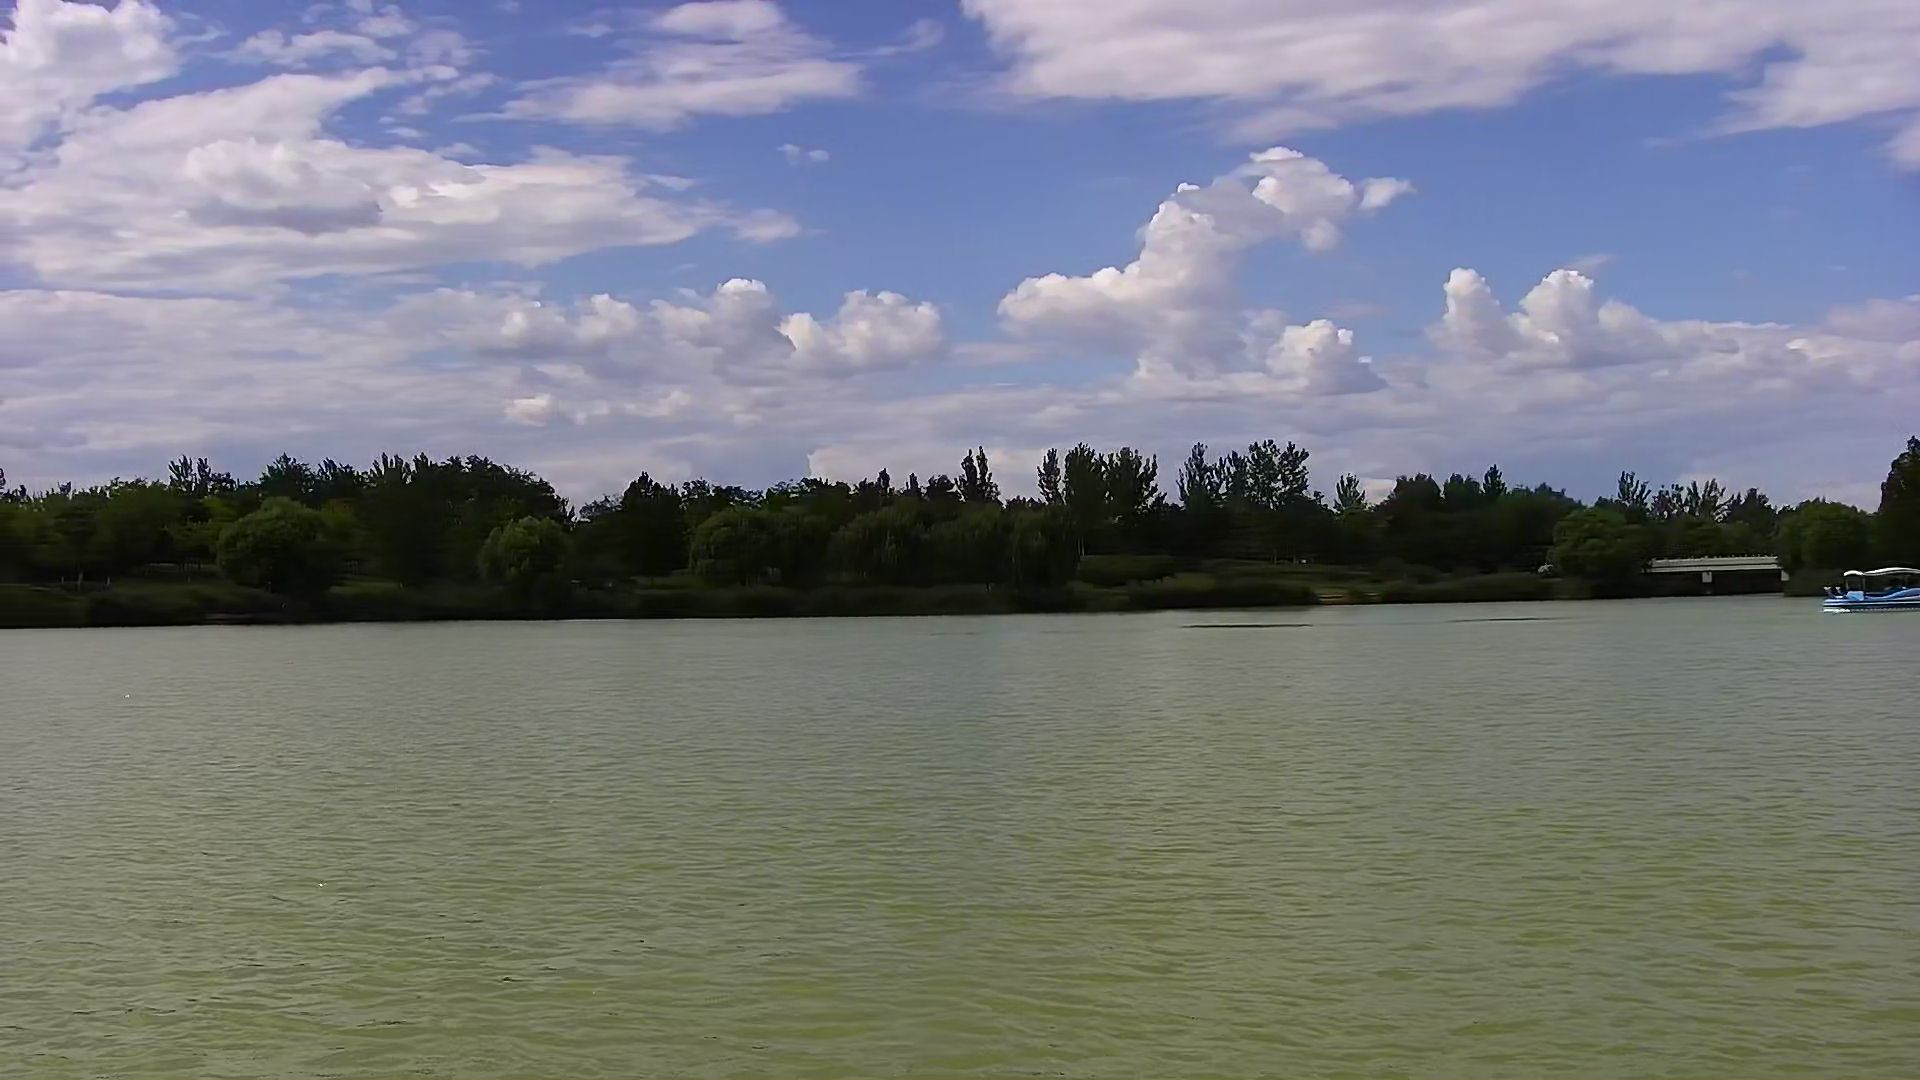boat: (1821, 567, 1919, 611)
bridge: (1651, 553, 1775, 589)
